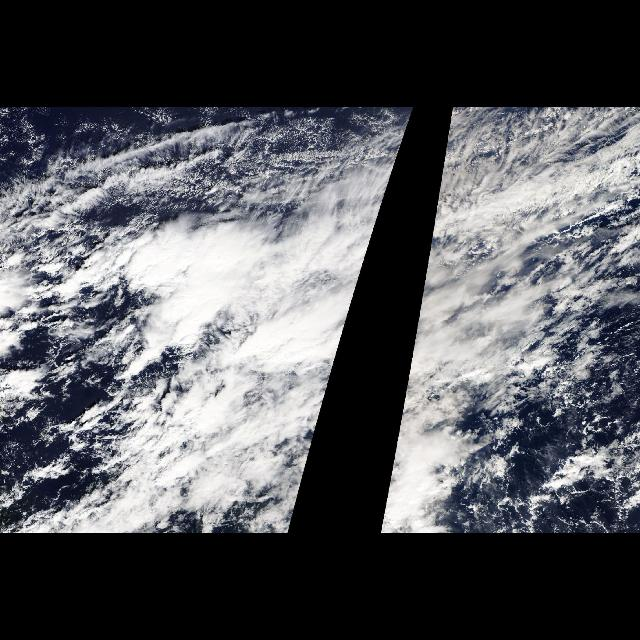Sugar: (128, 148, 380, 208)
